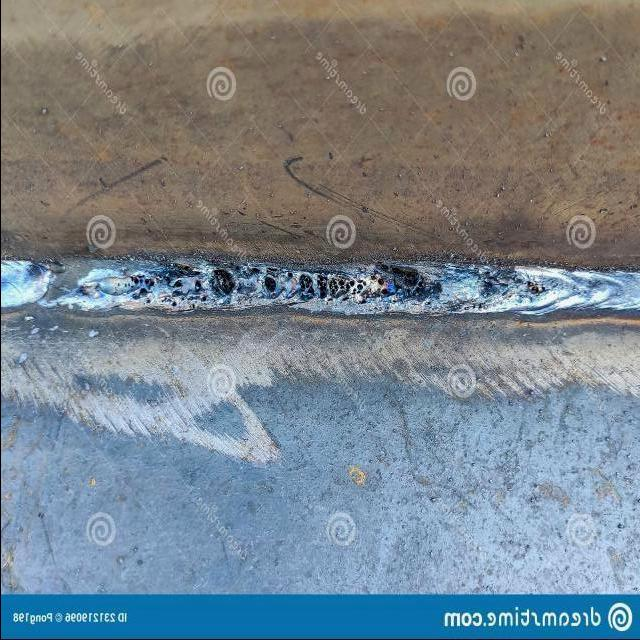defect: (248, 258, 429, 309), (111, 260, 208, 312), (207, 268, 238, 300), (523, 275, 547, 301)
